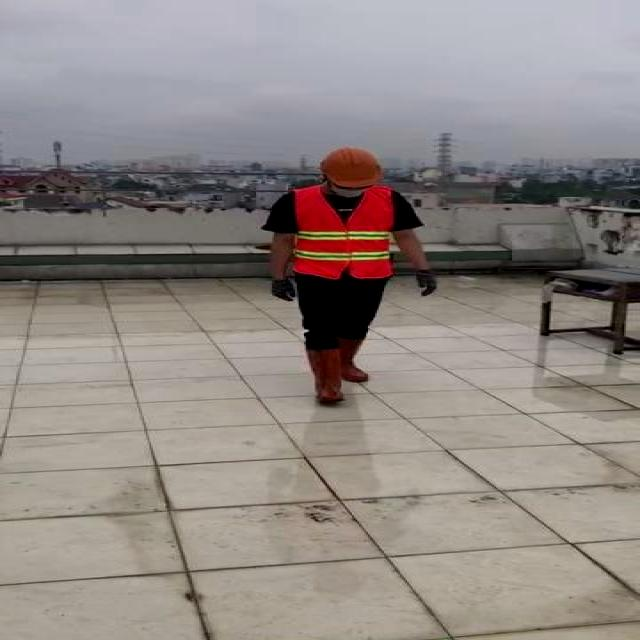boots: (307, 347, 345, 406), (336, 336, 377, 383)
hand_glove: (269, 276, 295, 301), (414, 270, 438, 297)
head_helmet: (320, 146, 382, 188)
person: (258, 145, 444, 413)
vest: (293, 186, 395, 280)
